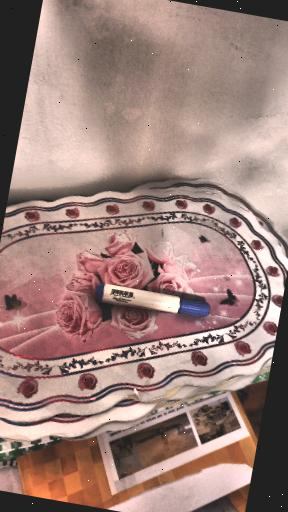marcador azul: (95, 284, 210, 316)
